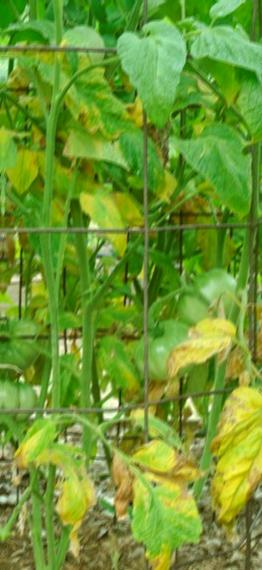Tomato Early blight leaf: (0, 420, 97, 551), (109, 441, 199, 570), (208, 383, 262, 518), (158, 313, 230, 391), (75, 191, 125, 255), (3, 143, 39, 194)
Tomato leaf: (116, 21, 182, 134), (181, 118, 250, 213), (189, 24, 262, 70)
